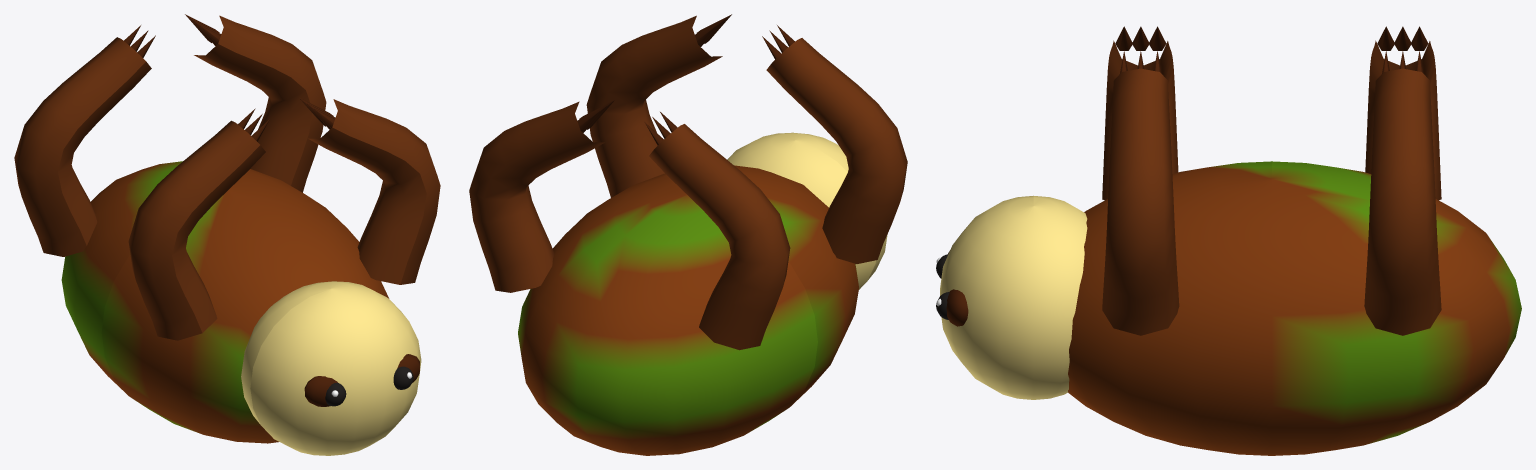
The model's file is sloth.glb.
The picture shows the model from 3 angles, left to right: view 1: azimuth 30°, elevation 25°; view 2: azimuth 150°, elevation 25°; view 3: azimuth 270°, elevation 25°; orthographic projection. The views are drawn at different scales.
Parts seen in each view (by area): view 1: Body, ArmL (×2), Head, ArmR (×2), Mask_-1; view 2: Body, ArmL (×2), ArmR (×2), Head; view 3: Body, ArmR (×2), Head, ArmL (×2), Mask_1.
Part boxes in pixels (bbox=[...]): Body: bbox=[61, 161, 389, 443]; ArmL (×2): bbox=[14, 37, 265, 340]; Head: bbox=[241, 281, 421, 455]; ArmR (×2): bbox=[194, 15, 440, 284]; Mask_-1: bbox=[304, 376, 337, 406]; Body: bbox=[518, 165, 858, 455]; ArmL (×2): bbox=[649, 38, 907, 350]; ArmR (×2): bbox=[469, 15, 722, 292]; Head: bbox=[727, 132, 887, 289]; Body: bbox=[1068, 161, 1521, 455]; ArmR (×2): bbox=[1102, 68, 1441, 335]; Head: bbox=[940, 195, 1087, 399]; ArmL (×2): bbox=[1102, 40, 1441, 200]; Mask_1: bbox=[946, 289, 968, 326].
Bounding box in the file's own units: 0.6813 × 0.7414 × 0.984.
